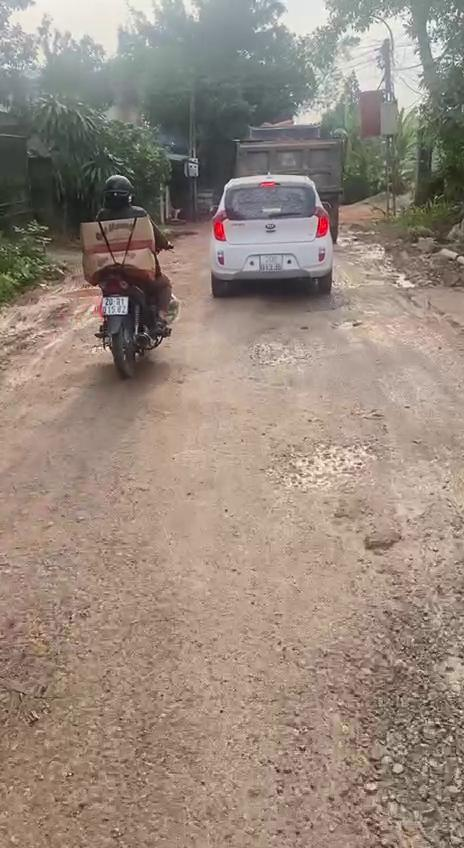pothole: (357, 648, 464, 848), (282, 436, 374, 502)
